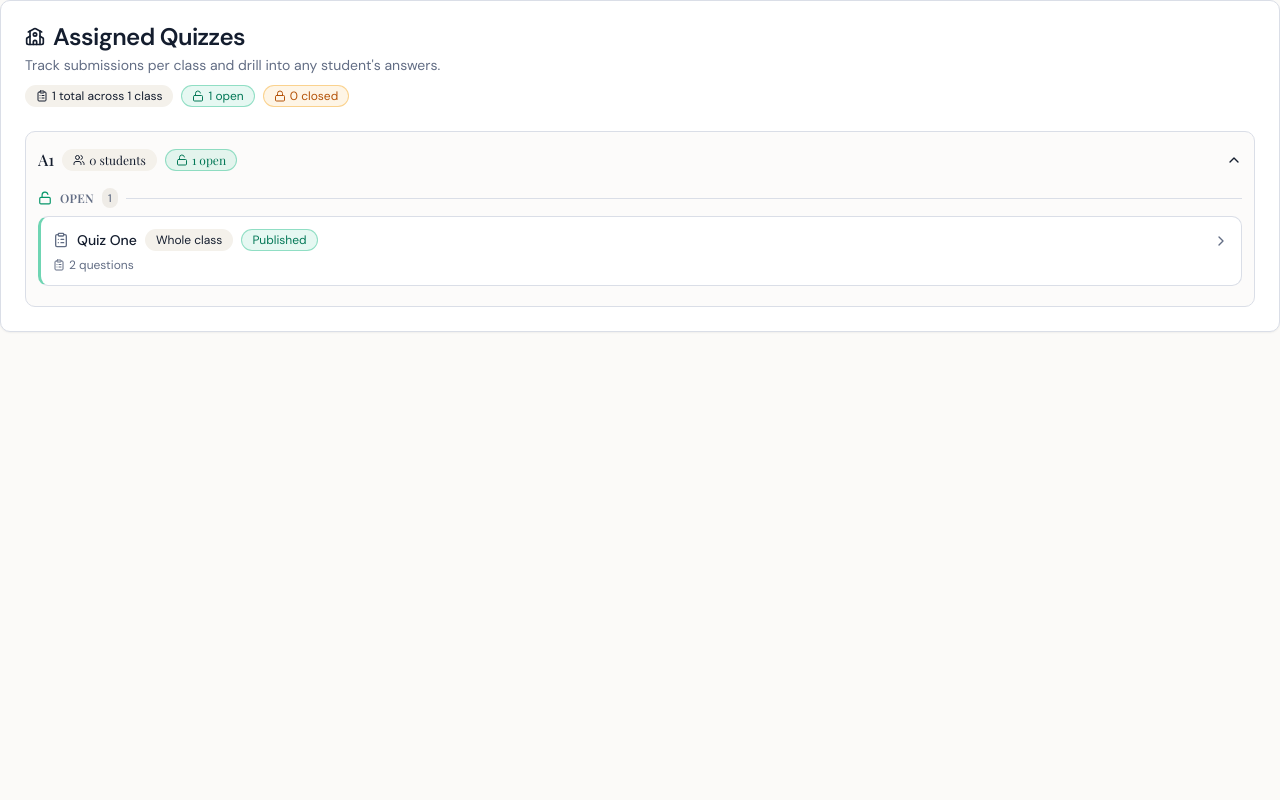
Test: AssignedQuizzesBoard › locks the Release answers toggle until the quiz is marked as done
Later steps or results of the test are not shown.
Expected: the text "A1" is shown, [38, 148, 54, 172]
Expected: the text "Quiz One" is shown, [77, 230, 137, 250]
Step 1. Click the button "Quiz One Whole class Published 2 questions" → x=107, y=240, box [41, 217, 1241, 285]
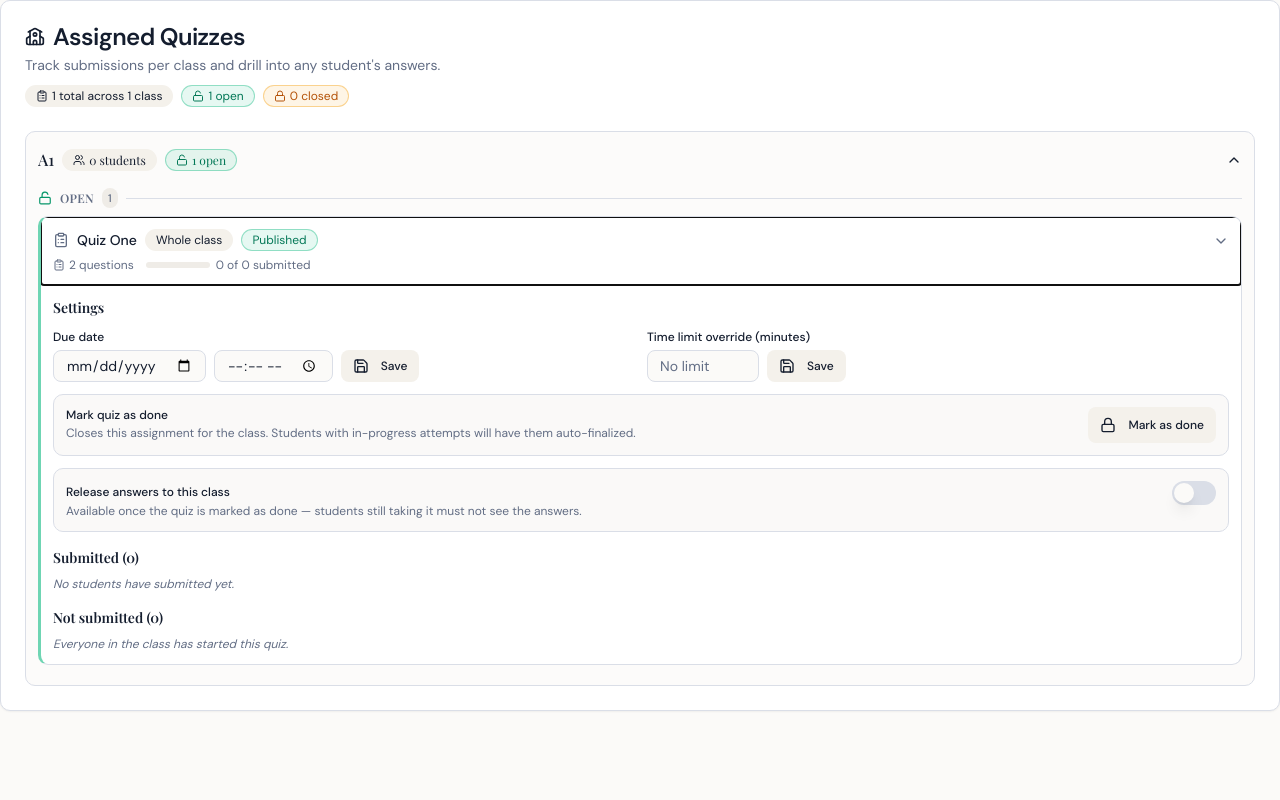
Expected: the switch named "Release answers to this class" is disabled, [1172, 481, 1216, 505]
